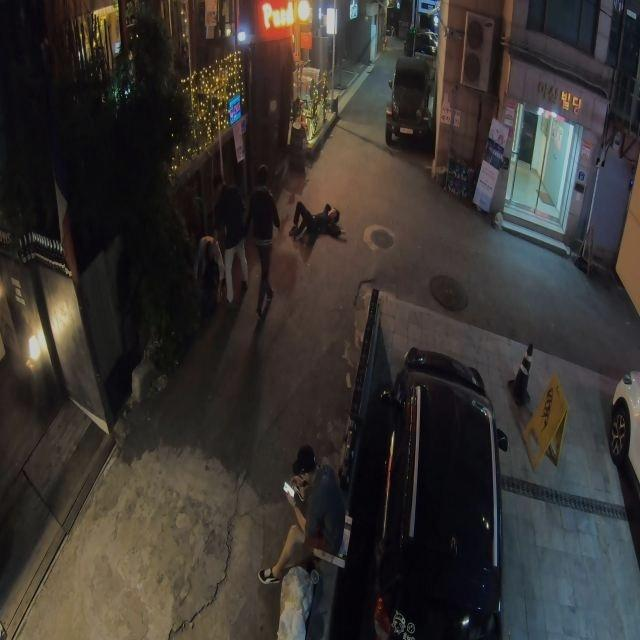fight: (193, 178, 349, 320)
non-fight: (259, 445, 343, 589)
